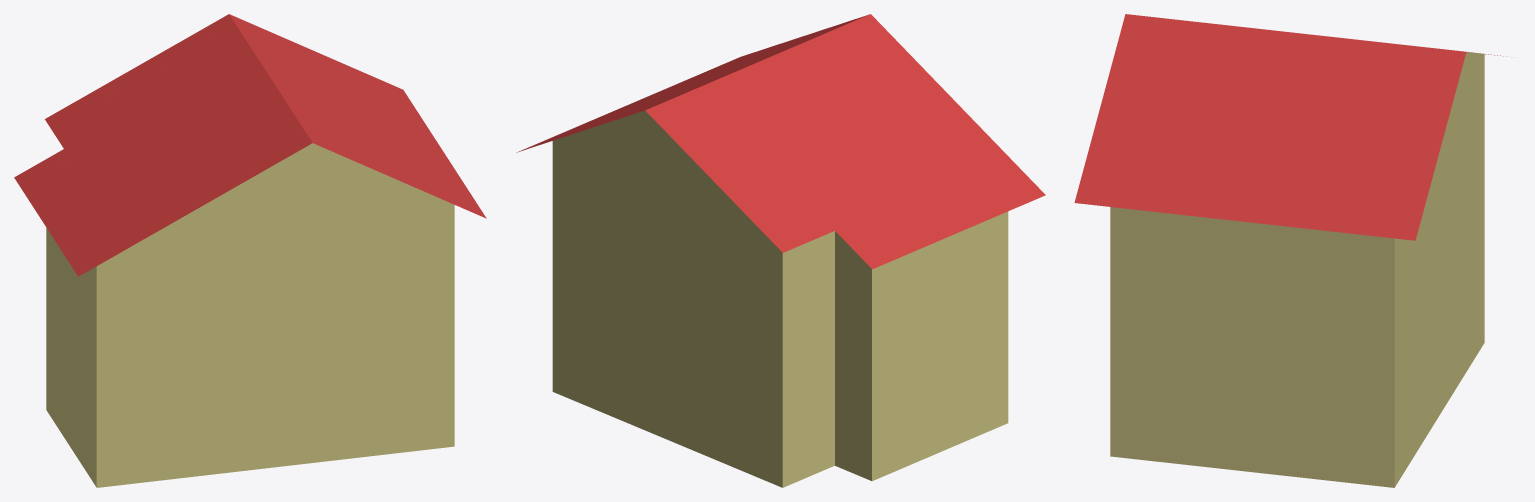
3 views of the same model, side by side, from view 1: azimuth 30°, elevation 25°; view 2: azimuth 150°, elevation 25°; view 3: azimuth 270°, elevation 25° (orthographic). The views are drawn at different scales.
Visible parts, largest first — view 1: group_5, group_3, group_4; view 2: group_5, group_3, group_4; view 3: group_5, group_3, group_4.
Boxes of the visible parts, x1,y1,x2,y2 form: group_5: [46, 143, 454, 487]; group_3: [47, 14, 486, 251]; group_4: [14, 14, 485, 276]; group_5: [552, 110, 1008, 487]; group_3: [516, 14, 1007, 241]; group_4: [530, 14, 1045, 269]; group_5: [1110, 52, 1484, 487]; group_3: [1074, 15, 1506, 240]; group_4: [1075, 14, 1431, 239].
Size of the model in its own units: 13.92 by 11.38 by 10.39.
